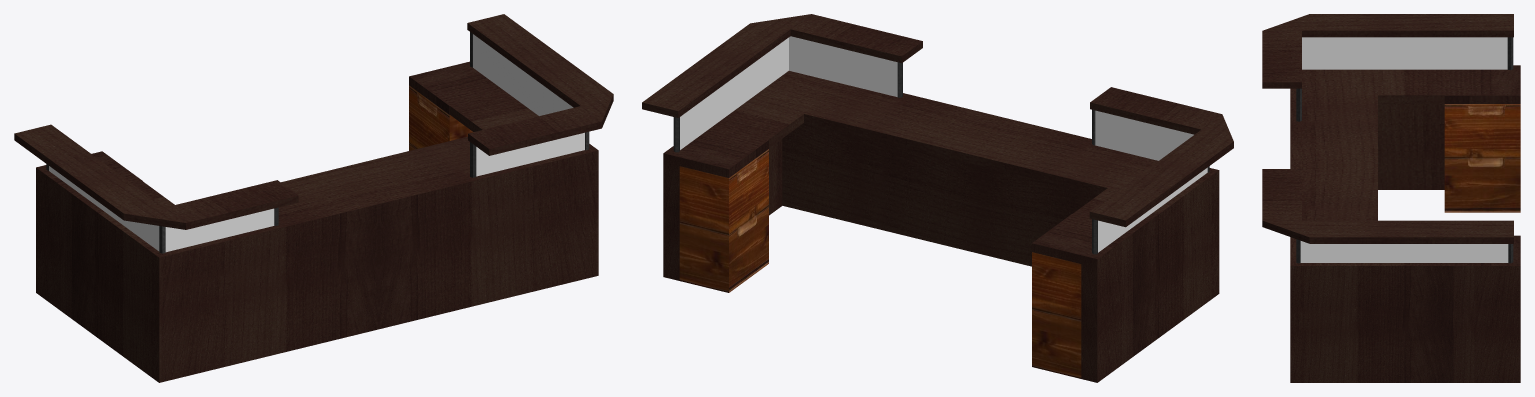
Rendered from recepdesk.gltf.
The picture shows the model from 3 angles, left to right: view 1: azimuth 30°, elevation 25°; view 2: azimuth 150°, elevation 25°; view 3: azimuth 270°, elevation 25°; orthographic projection. The views are drawn at different scales.
Visible parts, largest first — view 1: Cube; view 2: Cube; view 3: Cube.
Part boxes in pixels (bbox=[...]): Cube: bbox=[14, 14, 613, 382]; Cube: bbox=[642, 14, 1233, 382]; Cube: bbox=[1262, 14, 1520, 382].
Size of the model in its own units: 8.18 by 2.68 by 4.
Materials: 2 (1 with a texture image).
